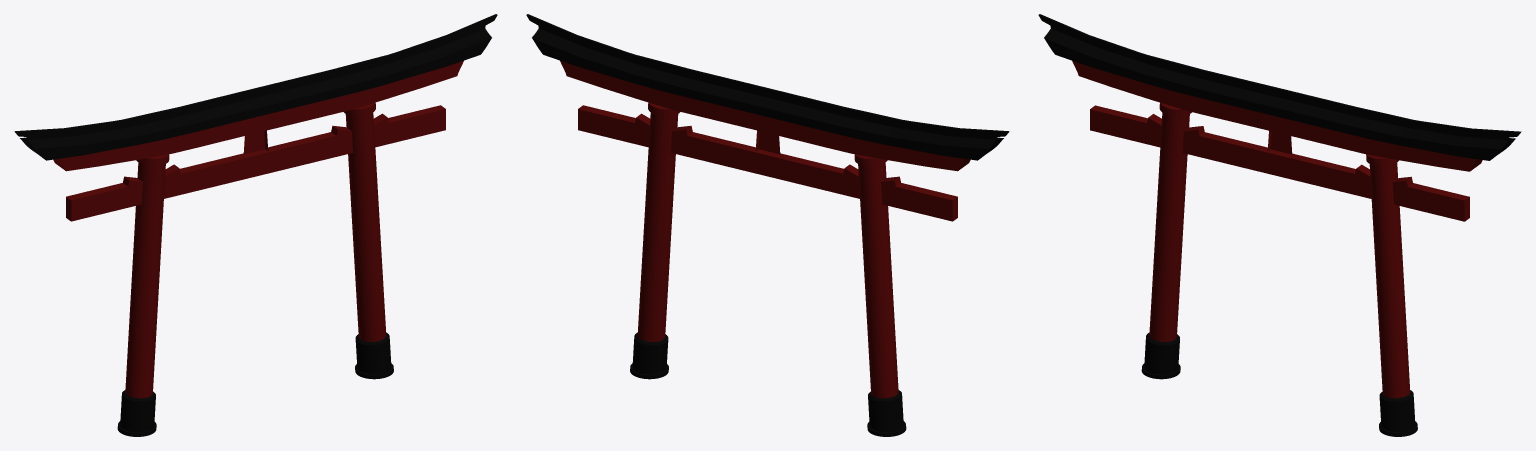
Rendered from Inari_3.obj.
The picture shows the model from 3 angles, left to right: view 1: azimuth 30°, elevation 25°; view 2: azimuth 150°, elevation 25°; view 3: azimuth 330°, elevation 25°; orthographic projection.
Visible parts, largest first — view 1: Cube.025_Cube.032; view 2: Cube.025_Cube.032; view 3: Cube.025_Cube.032.
Boxes of the visible parts, x1=… form: Cube.025_Cube.032: x1=14, y1=14, x2=497, y2=436; Cube.025_Cube.032: x1=526, y1=14, x2=1009, y2=436; Cube.025_Cube.032: x1=1038, y1=14, x2=1521, y2=436.
Size of the model in its own units: 20.47 by 13.27 by 1.42.
